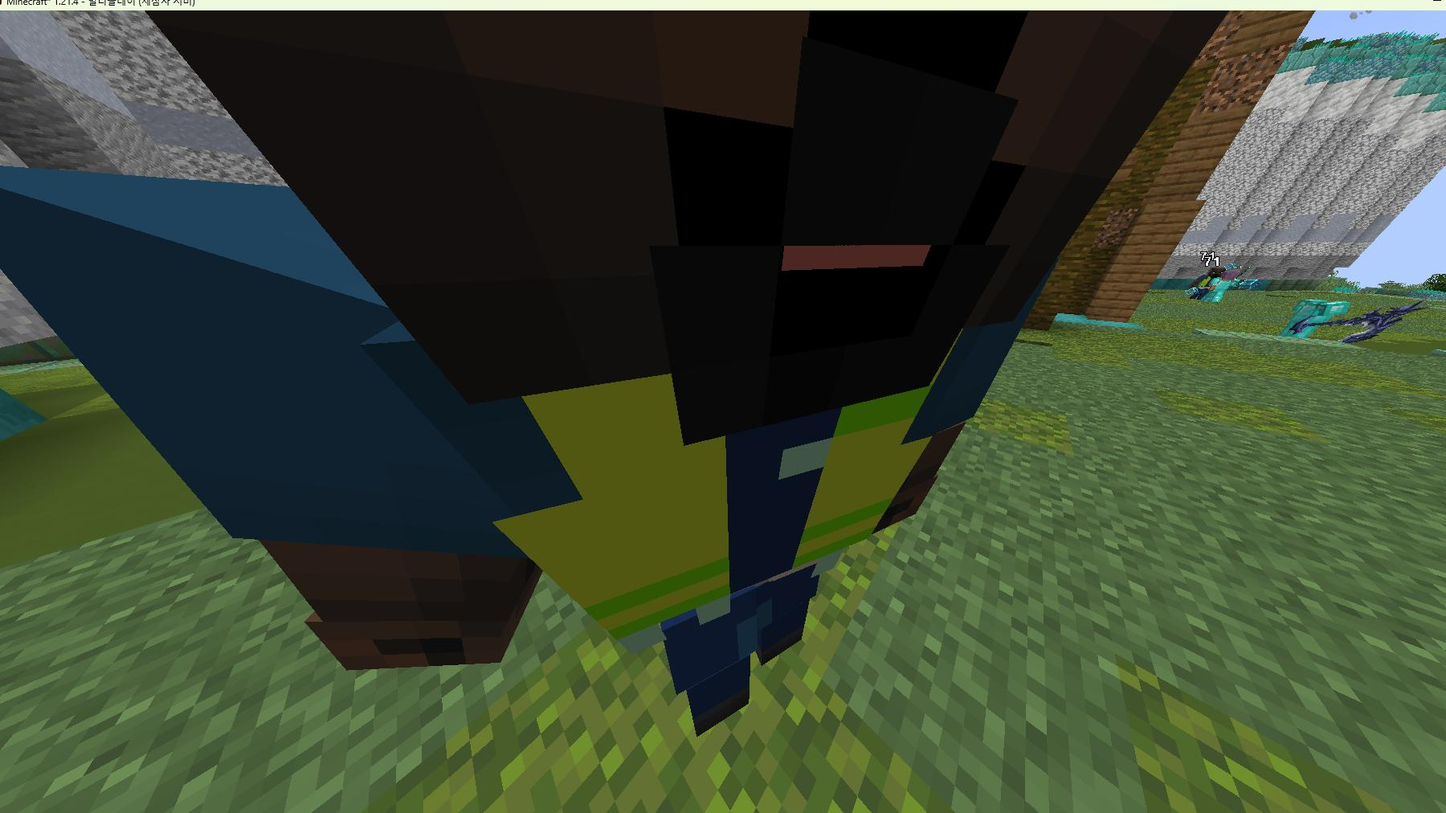Guardian: (0, 10, 1225, 735)
